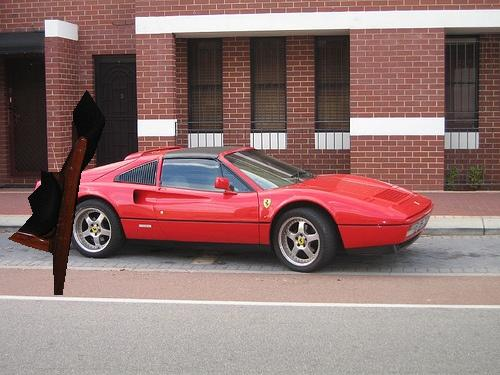tampered: (9, 91, 105, 295)
